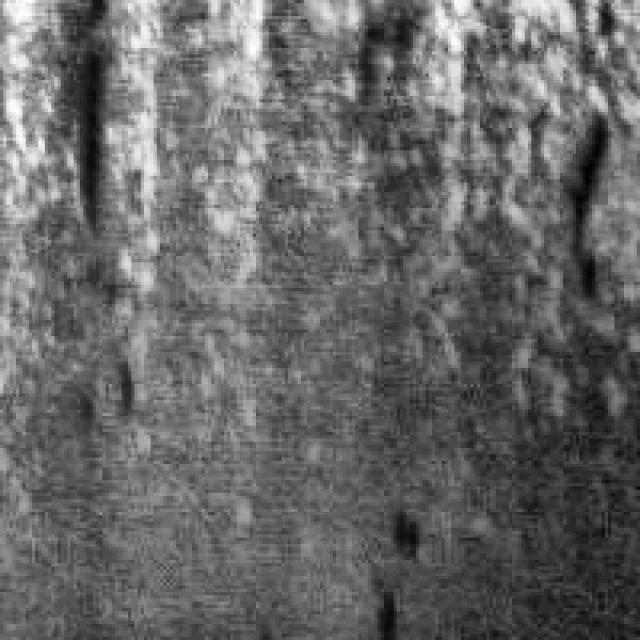Patches: (528, 103, 630, 340), (60, 28, 118, 234), (76, 336, 134, 429)
